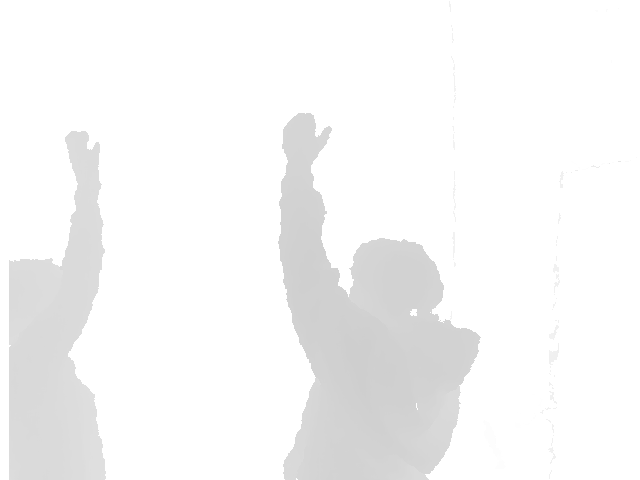hand: (280, 110, 332, 183), (64, 129, 102, 194)
head: (345, 237, 445, 336), (7, 258, 80, 355)
person: (277, 110, 482, 480), (8, 129, 108, 480)
